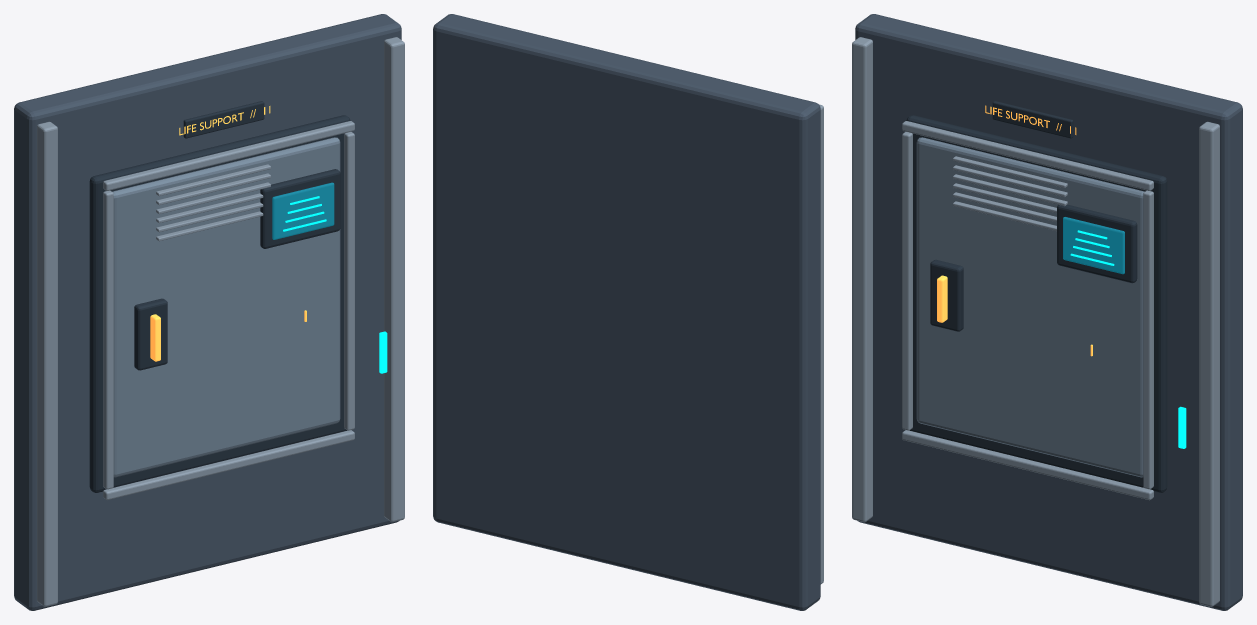
File: sector11_service_module_v1.glb
3 renders of one model, left to right at view 1: azimuth 30°, elevation 25°; view 2: azimuth 150°, elevation 25°; view 3: azimuth 330°, elevation 25°, orthographic.
Parts seen in each view (by area): view 1: Sector11ServiceModule; view 2: Sector11ServiceModule; view 3: Sector11ServiceModule.
Boxes of the visible parts, x1,y1,x2,y2 form: Sector11ServiceModule: (14,14,404,610); Sector11ServiceModule: (433,14,823,610); Sector11ServiceModule: (852,14,1242,610).
Size of the model in its own units: 5.65 by 7.2 by 1.03.
